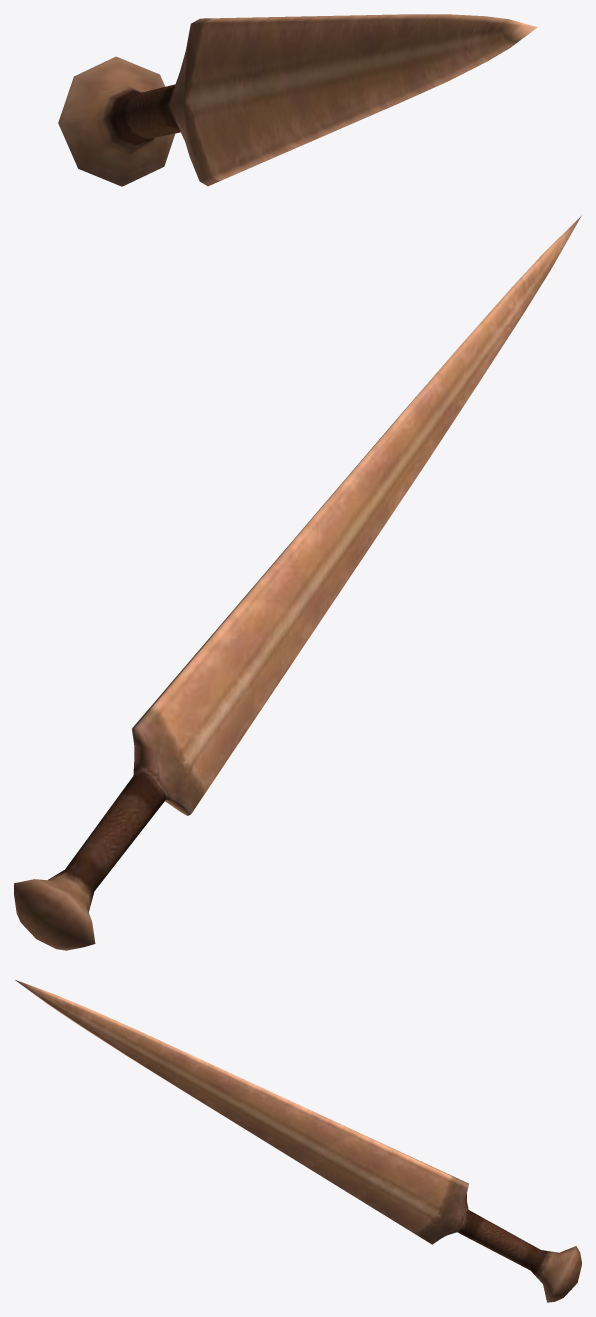
Rendered from weapon-base.glb.
The picture shows the model from 3 angles, top to bottom: view 1: azimuth 30°, elevation 25°; view 2: azimuth 150°, elevation 25°; view 3: azimuth 270°, elevation 25°; orthographic projection. The views are drawn at different scales.
Bounding box in the file's own units: 0.166 × 0.5003 × 0.89.
1 material, 1 textured.
